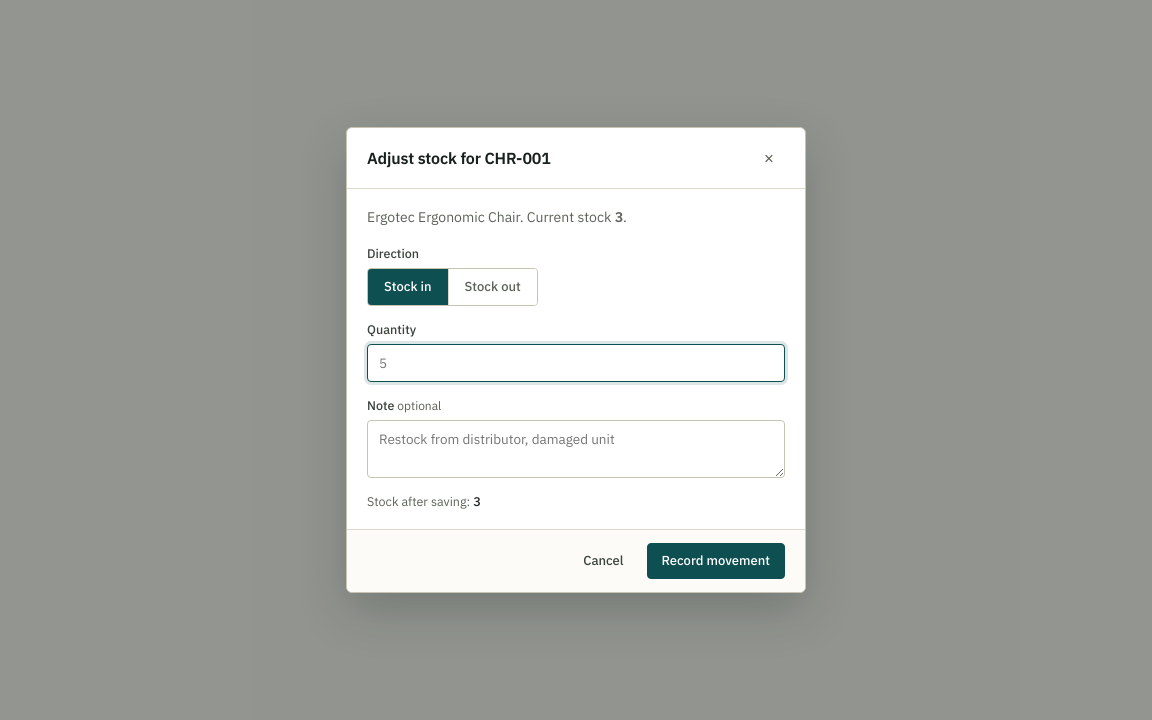
Test: StockAdjustModal › renders the 409 with the available quantity instead of failing silently
Click the button "Stock out" at (492, 287), box [448, 269, 537, 305]
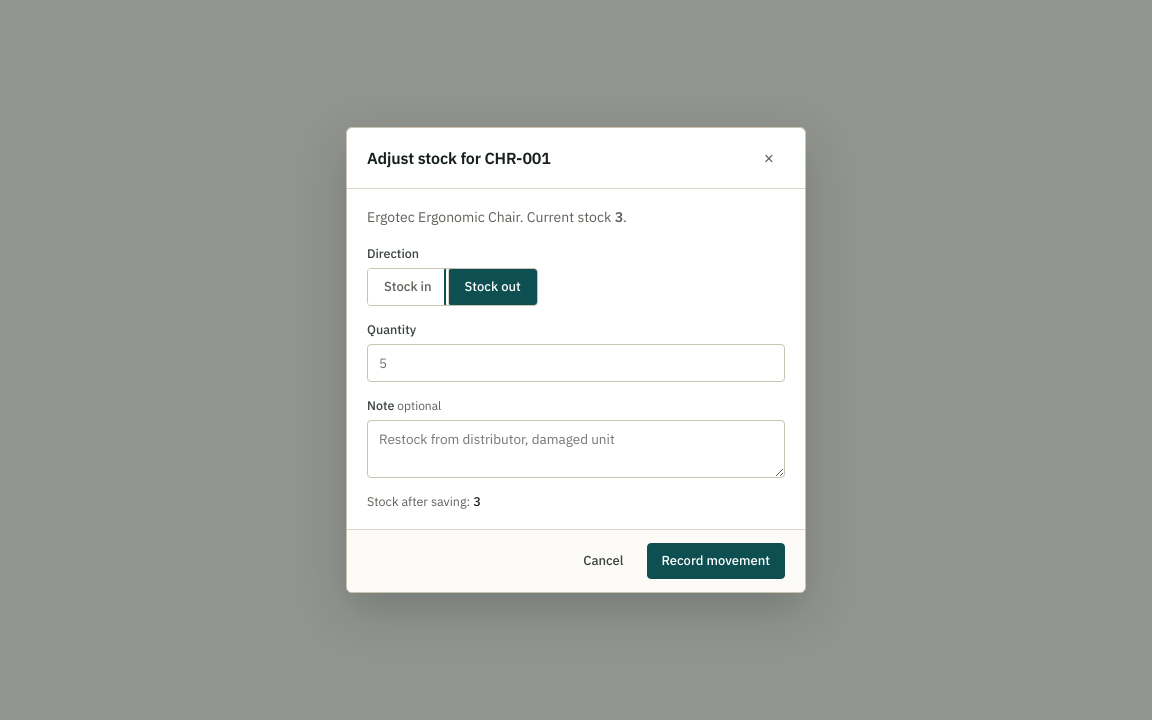
Type "99" into the field labelled "Quantity" at (576, 363), box [367, 344, 785, 382]
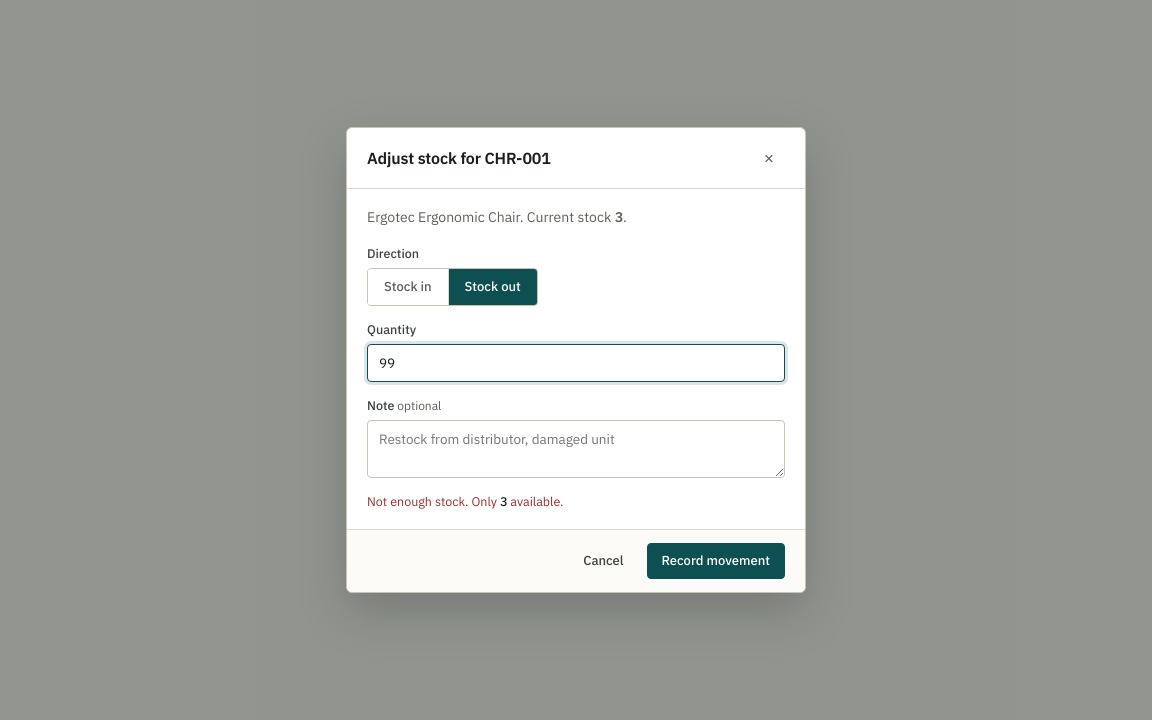
Click the button "Record movement" at (716, 561), box [646, 543, 785, 579]
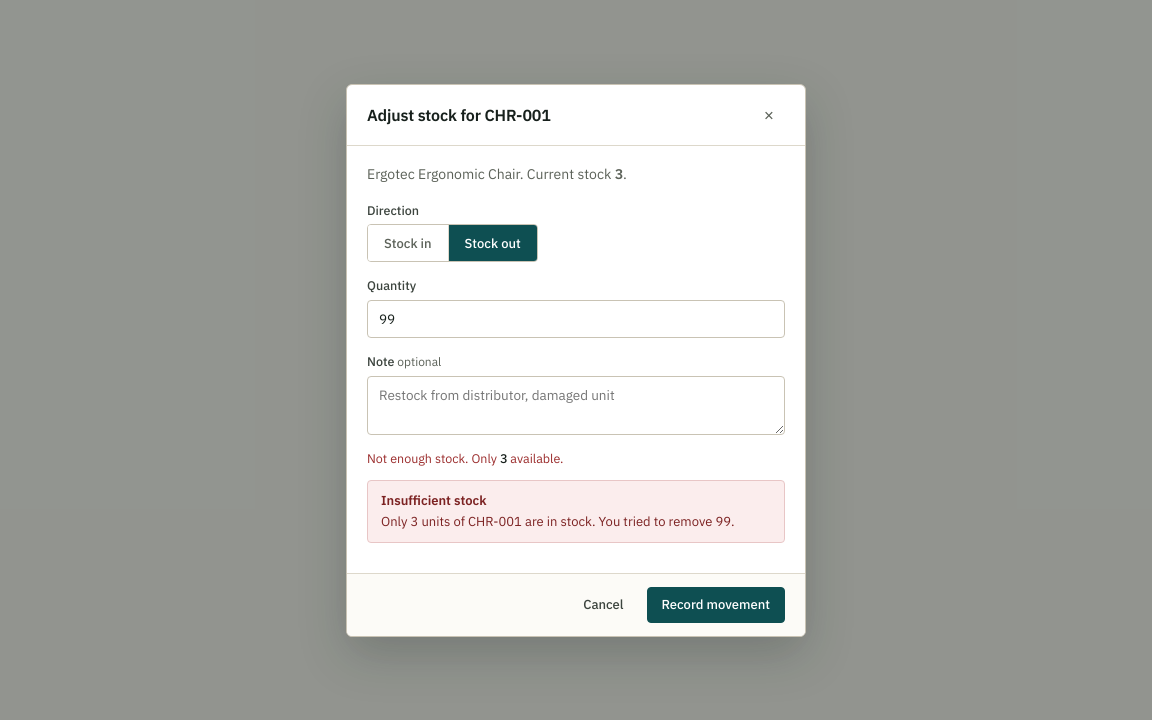
Expected: the button "Record movement" is enabled, [646, 586, 785, 622]
Now the message shows "Only 3 units of CHR-001 are in stock", box [367, 480, 785, 542]
Now the message shows "You tried to remove 99", box [367, 480, 785, 542]
